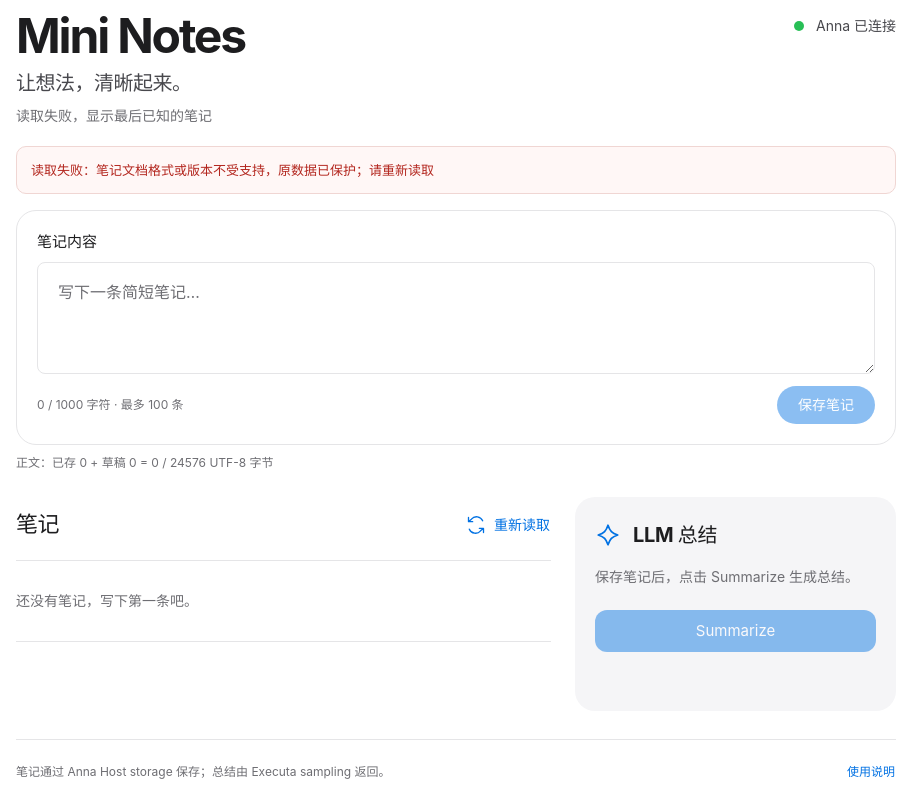
Test case: Mini Notes application › protects invalid storage and recovers only through another Host read
Expected: the button "重新读取" is enabled, [457,507,551,543]
Expected: the message "读取失败：笔记文档格式或版本不受支持，原数据已保护；请重新读取" is shown, [16,146,896,194]
Type "never overwrite" into the text box labelled "笔记内容".
click(456, 318); type("never overwrite")  # box [37,262,875,374]
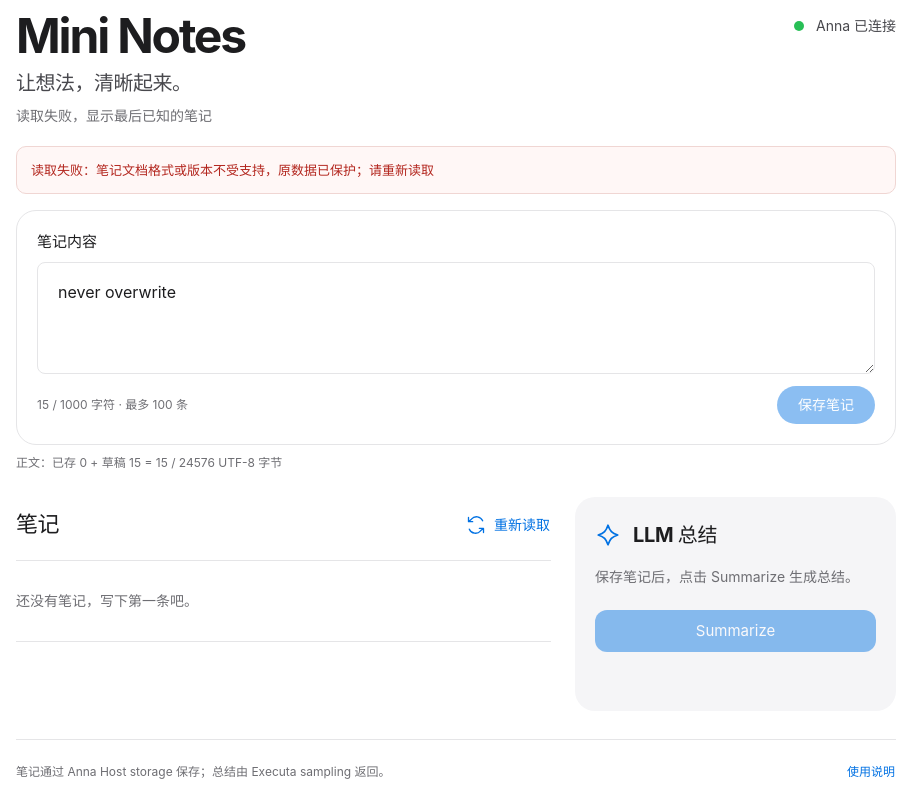
Expected: the button "保存笔记" is disabled, [777,386,875,424]
Click the button "重新读取".
click(504, 525)  # box [457,507,551,543]
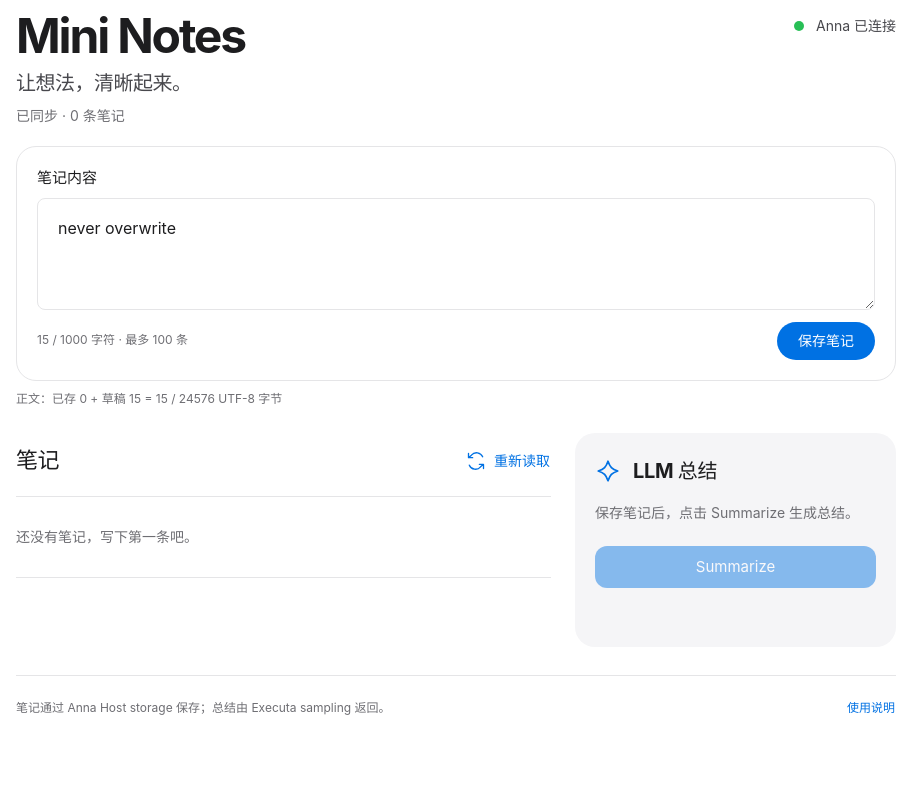
Expected: the button "保存笔记" is enabled, [777,322,875,360]
